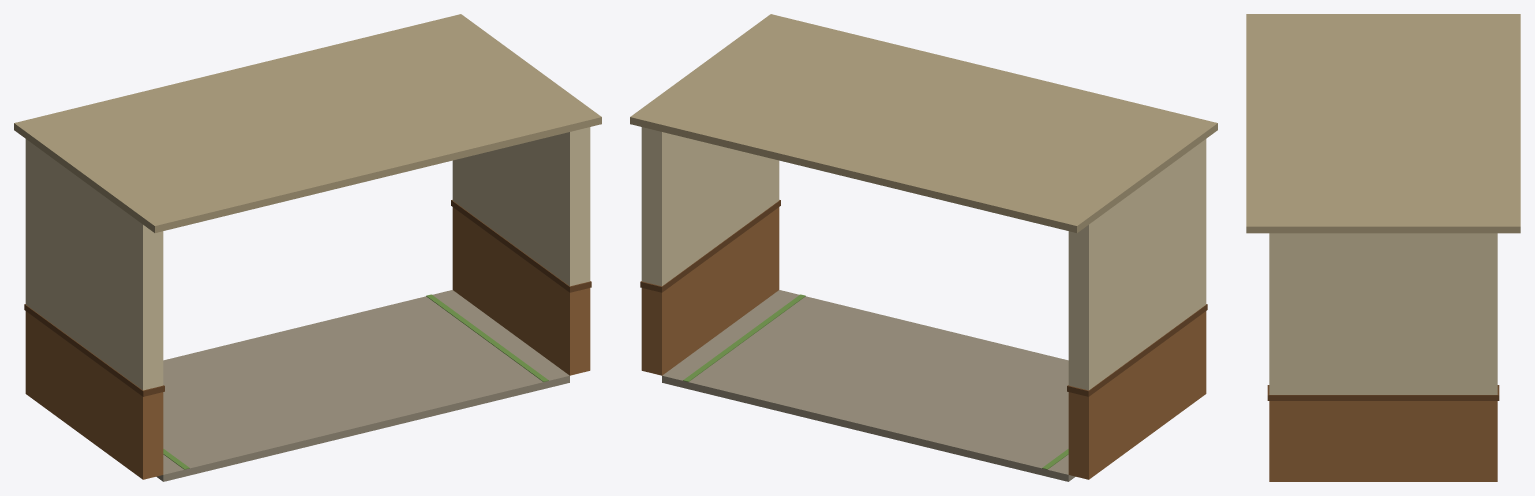
The model's file is room_shared_main_filler_dark.glb.
3 renders of one model, left to right at view 1: azimuth 30°, elevation 25°; view 2: azimuth 150°, elevation 25°; view 3: azimuth 270°, elevation 25°, orthographic. The views are drawn at different scales.
Visible parts, largest first — view 1: room_shared_main_filler_dark; view 2: room_shared_main_filler_dark; view 3: room_shared_main_filler_dark.
Part boxes in pixels (box(x1,y1,x2,y2)): room_shared_main_filler_dark: box(14, 14, 601, 481); room_shared_main_filler_dark: box(630, 14, 1217, 481); room_shared_main_filler_dark: box(1246, 14, 1520, 481).
Size of the model in its own units: 6.62 by 3.8 by 3.6.
1 material, 1 textured.
